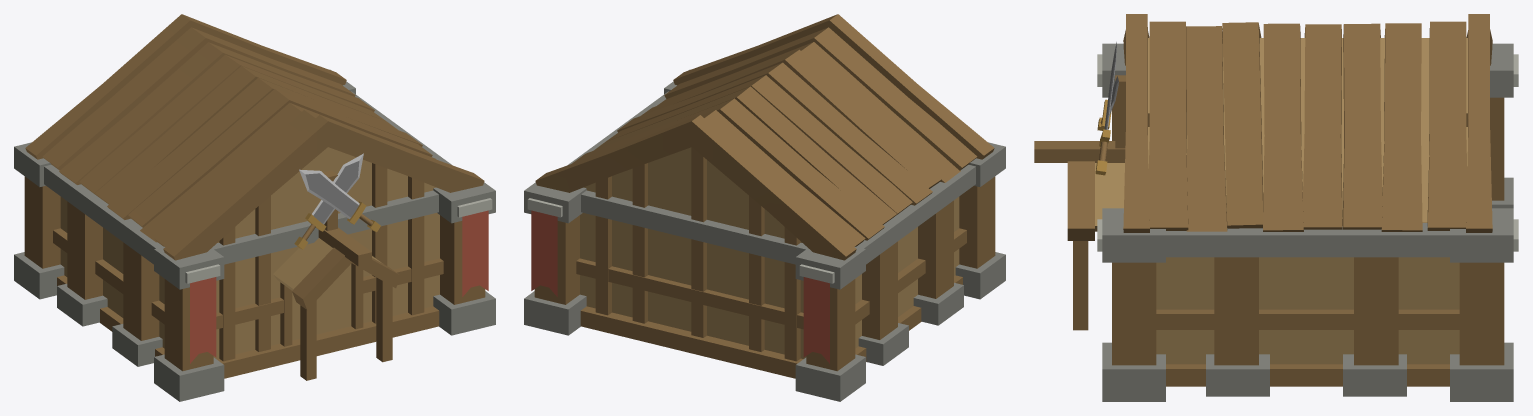
The model's file is Barracks.glb.
The picture shows the model from 3 angles, left to right: view 1: azimuth 30°, elevation 25°; view 2: azimuth 150°, elevation 25°; view 3: azimuth 270°, elevation 25°; orthographic projection. The views are drawn at different scales.
Visible parts, largest first — view 1: Barracks_FirstAge_Level1; view 2: Barracks_FirstAge_Level1; view 3: Barracks_FirstAge_Level1.
Part boxes in pixels (x1,y1,x2,y2): Barracks_FirstAge_Level1: [14, 14, 495, 401]; Barracks_FirstAge_Level1: [524, 14, 1005, 401]; Barracks_FirstAge_Level1: [1034, 14, 1518, 401].
Bounding box in the file's own units: 1.01 × 0.7192 × 1.08.
